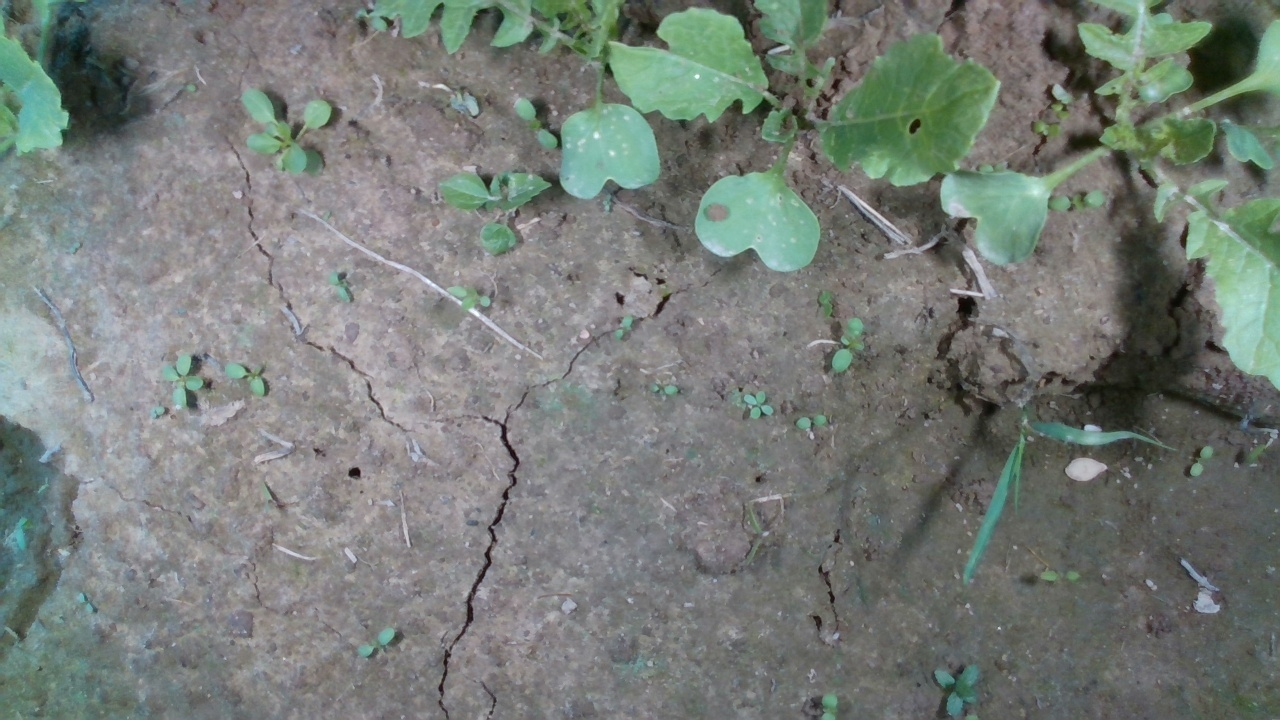weed: (158, 351, 204, 413), (511, 96, 558, 150), (830, 317, 865, 375), (221, 361, 267, 400), (445, 281, 492, 311), (356, 626, 395, 658), (742, 389, 775, 419), (1188, 442, 1215, 478), (329, 270, 352, 305), (1037, 570, 1081, 583), (613, 313, 634, 339), (795, 413, 827, 430), (645, 381, 679, 396), (817, 289, 832, 321), (75, 592, 94, 615)
